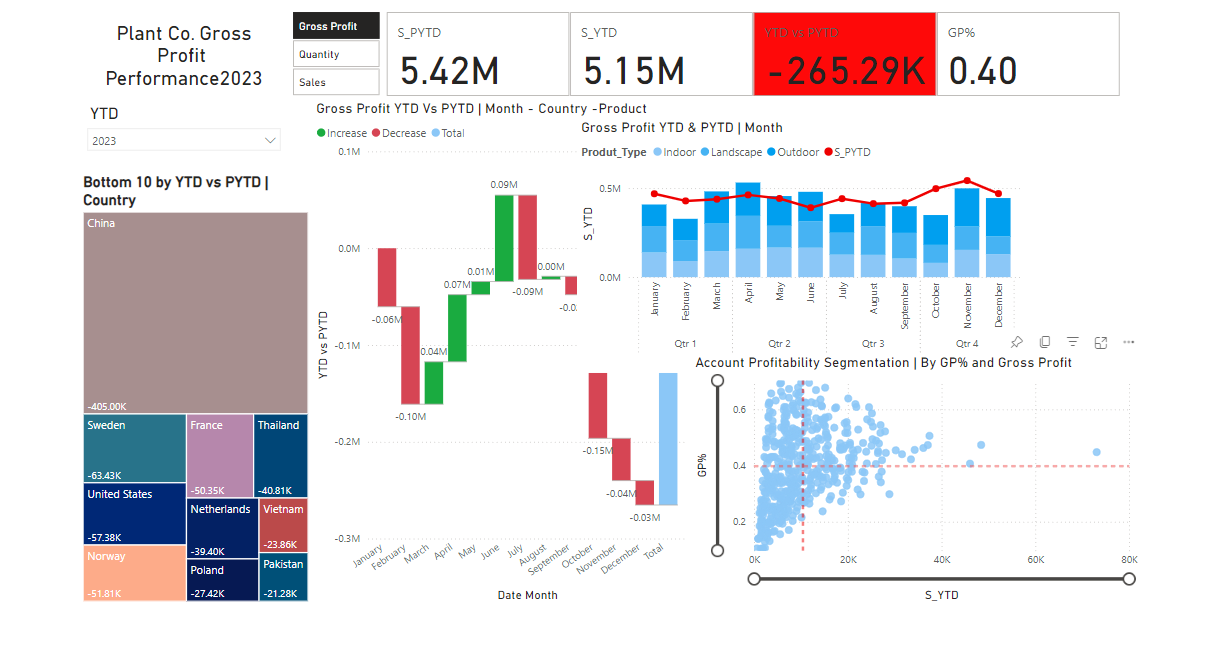

Layout of this report page (visuals, bound fields, positions):
{"tool":"powerbi","page":{"name":"Page 1","canvas":[1280,720],"ordinal":0},"visuals":[{"type":"cardVisual","fields":{"Data":["_Measures.S_PYTD","_Measures.S_YTD","_Measures.YTD vs PYTD","_Measures.GP%"]},"box":[345.4,0,935.1,111.2],"z":0},{"type":"advancedSlicerVisual","fields":{"Values":["Slc_Values.Values"]},"box":[253.2,0,114.1,111.2],"z":2},{"type":"slicer","fields":{"Values":["Dim_Date.Date.Variation.Date Hierarchy.Year"]},"box":[0,111.2,253.2,87.8],"z":3},{"type":"treemap","title":"Bottom 10 by YTD vs PYTD | Country","fields":{"Values":["_Measures.YTD vs PYTD"],"Group":["Dim_Accounts.country"]},"box":[0,199,281,521],"z":4},{"type":"waterfallChart","fields":{"Y":["_Measures.YTD vs PYTD"],"Category":["Dim_Date.Date.Variation.Date Hierarchy.Month","Dim_Accounts.country"]},"box":[280.5,110.9,456.9,609.8],"z":5},{"type":"lineStackedColumnComboChart","fields":{"Y":["_Measures.S_YTD"],"Category":["Dim_Date.Date.Variation.Date Hierarchy.Quarter","Dim_Date.Date.Variation.Date Hierarchy.Month"],"Y2":["_Measures.S_PYTD"],"Series":["DIM_Product.Produt_Type"]},"box":[600,133.2,542.9,305.9],"z":6},{"type":"scatterChart","fields":{"X":["_Measures.S_YTD"],"Category":["Dim_Accounts.Account"],"Y":["_Measures.GP%"]},"box":[737.6,417.1,542.9,302.9],"z":7},{"type":"card","fields":{"Values":["_Measures._Report title"]},"box":[0,0,253.2,111.2],"z":8}]}

Visuals, with their boxes on the page's 1280x720 design canvas (x1, y1, x2, y2). These are canvas units, not pixel positions in the 1226x646 screenshot, which may show the page scaled, cropped or inside an application window:
cardVisual - _Measures.S_PYTD x _Measures.S_YTD: (x1=345, y1=0, x2=1280, y2=111)
advancedSlicerVisual - Slc_Values.Values: (x1=253, y1=0, x2=367, y2=111)
slicer - Dim_Date.Date.Variation.Date Hierarchy.Year: (x1=0, y1=111, x2=253, y2=199)
"Bottom 10 by YTD vs PYTD | Country" treemap: (x1=0, y1=199, x2=281, y2=720)
waterfallChart - _Measures.YTD vs PYTD x Dim_Date.Date.Variation.Date Hierarchy.Month: (x1=280, y1=111, x2=737, y2=721)
lineStackedColumnComboChart - _Measures.S_YTD x Dim_Date.Date.Variation.Date Hierarchy.Quarter: (x1=600, y1=133, x2=1143, y2=439)
scatterChart - _Measures.S_YTD x Dim_Accounts.Account: (x1=738, y1=417, x2=1280, y2=720)
card - _Measures._Report title: (x1=0, y1=0, x2=253, y2=111)
